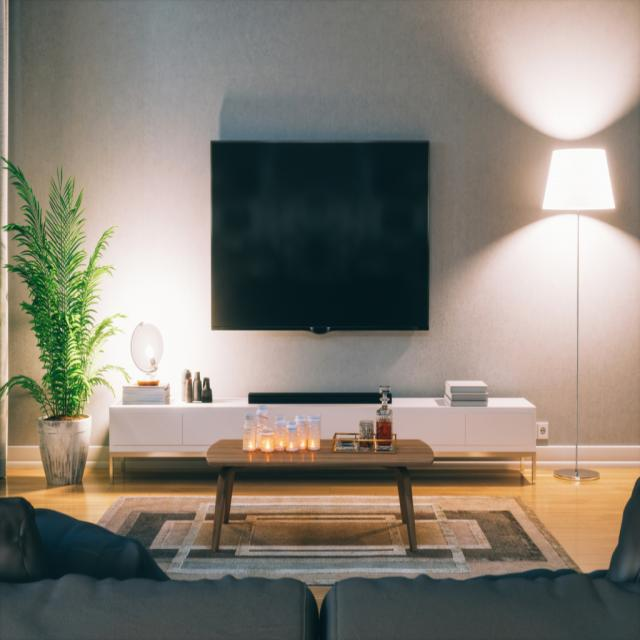beside table: (102, 378, 542, 478)
table: (210, 428, 441, 530)
television: (207, 125, 438, 352)
tree: (15, 159, 105, 450)
